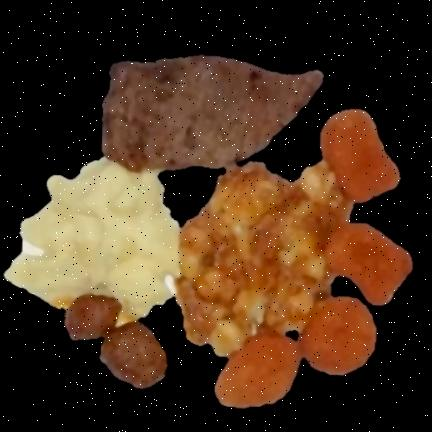carrot: (321, 110, 399, 203)
meat: (102, 56, 323, 171)
potato: (5, 159, 179, 325)
sausage: (65, 295, 167, 389)
